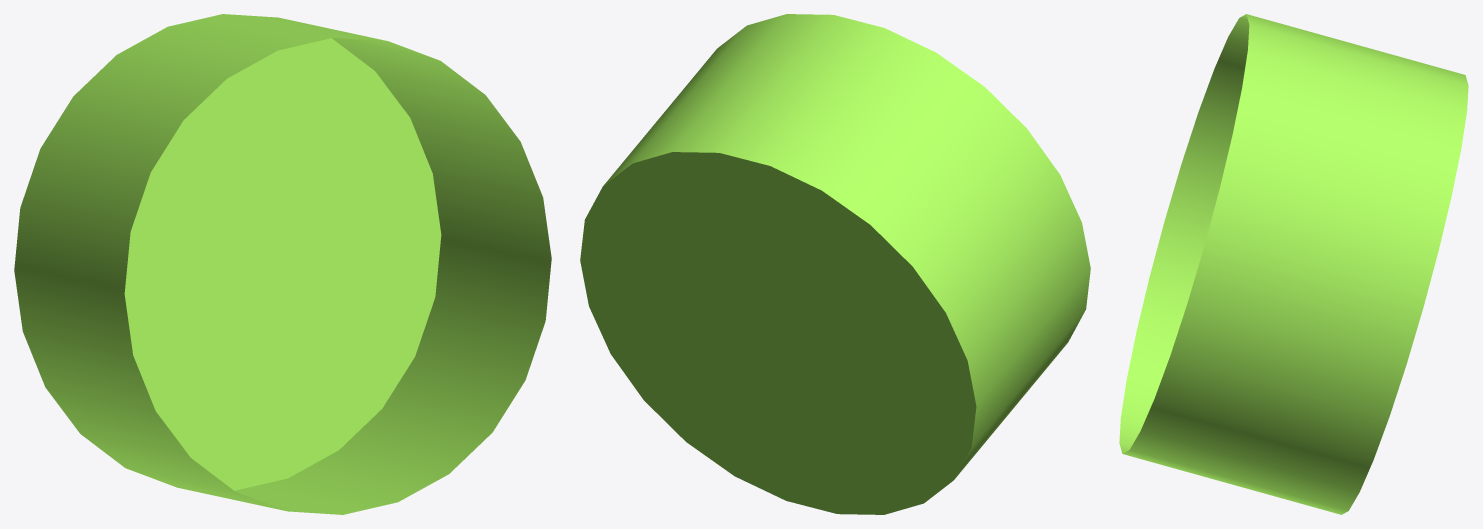
The model's file is original-17.obj.
3 renders of one model, left to right at view 1: azimuth 30°, elevation 25°; view 2: azimuth 150°, elevation 25°; view 3: azimuth 270°, elevation 25°, orthographic. The views are drawn at different scales.
Parts seen in each view (by area): view 1: #ID22; view 2: #ID22; view 3: #ID22.
Part boxes in pixels (x1=…): #ID22: x1=14, y1=14, x2=551, y2=514; #ID22: x1=580, y1=14, x2=1090, y2=514; #ID22: x1=1119, y1=14, x2=1468, y2=514.
Bounding box in the file's own units: 0.1142 × 0.1243 × 0.0868.
